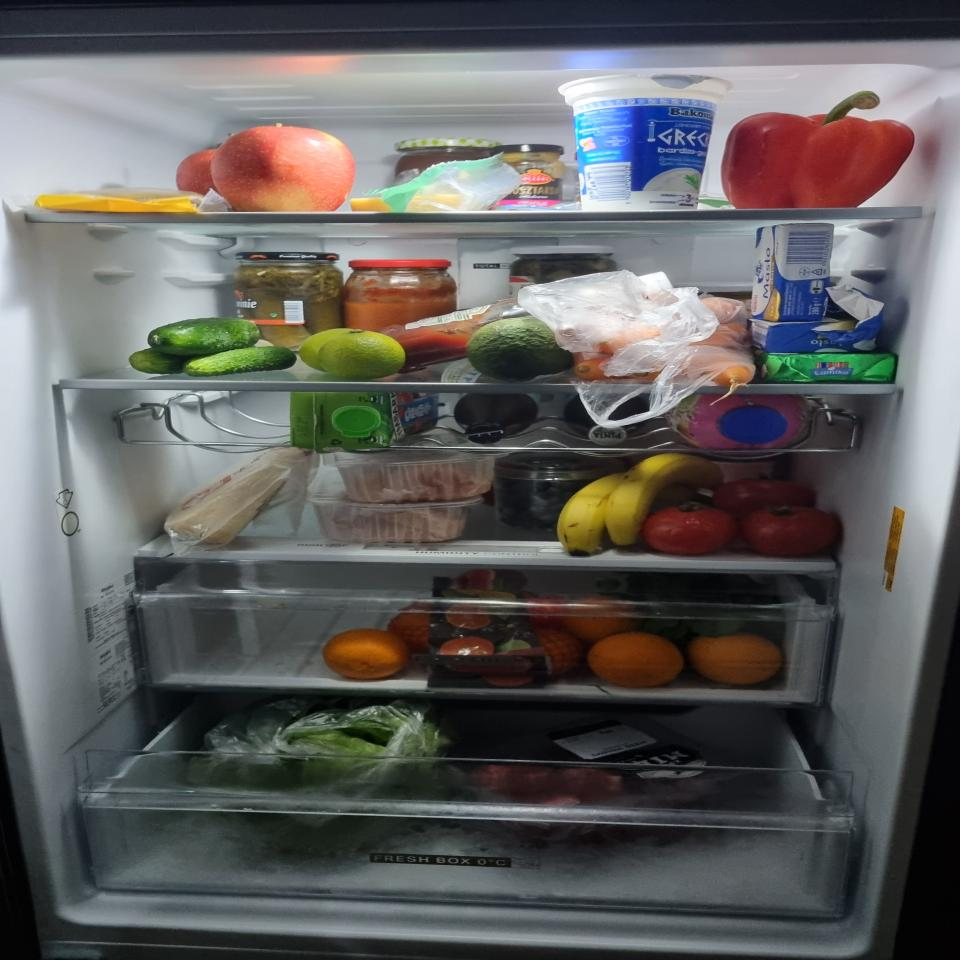Aguacate: (465, 316, 573, 381)
Carne pollo: (323, 451, 514, 503), (304, 496, 483, 546)
Lechuga/Endivia: (185, 698, 454, 866)
Mantequilla: (746, 283, 886, 353), (751, 222, 834, 322), (754, 354, 896, 384)
Manzana: (209, 123, 355, 212), (176, 148, 218, 198)
Pepino: (128, 316, 296, 376)
Plátano: (557, 453, 723, 556)
Queso: (164, 446, 303, 546), (33, 188, 234, 213), (349, 194, 465, 212)
Tomate: (741, 505, 839, 557), (644, 501, 734, 554), (720, 472, 821, 512)
Yogur: (558, 73, 734, 212)
Zanahoria: (562, 290, 754, 386)
